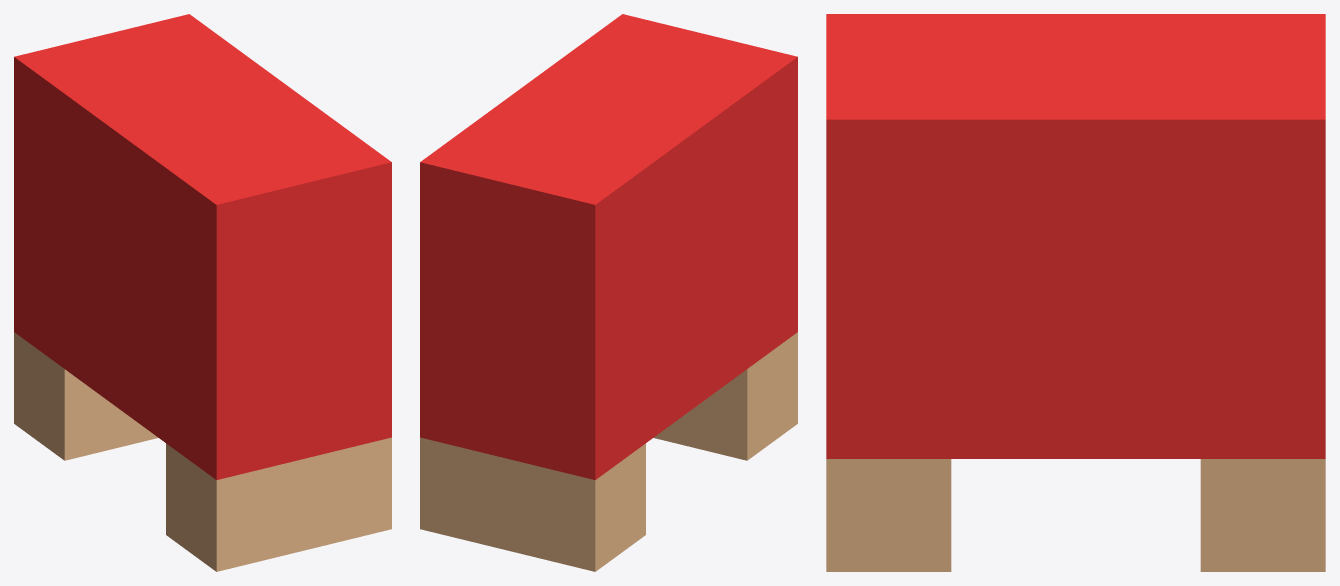
File: body3.obj
3 renders of one model, left to right at view 1: azimuth 30°, elevation 25°; view 2: azimuth 150°, elevation 25°; view 3: azimuth 270°, elevation 25°, orthographic. The views are drawn at different scales.
Bounding box in the file's own units: 0.2 × 0.4 × 0.4.
Materials: 1 (1 with a texture image).
